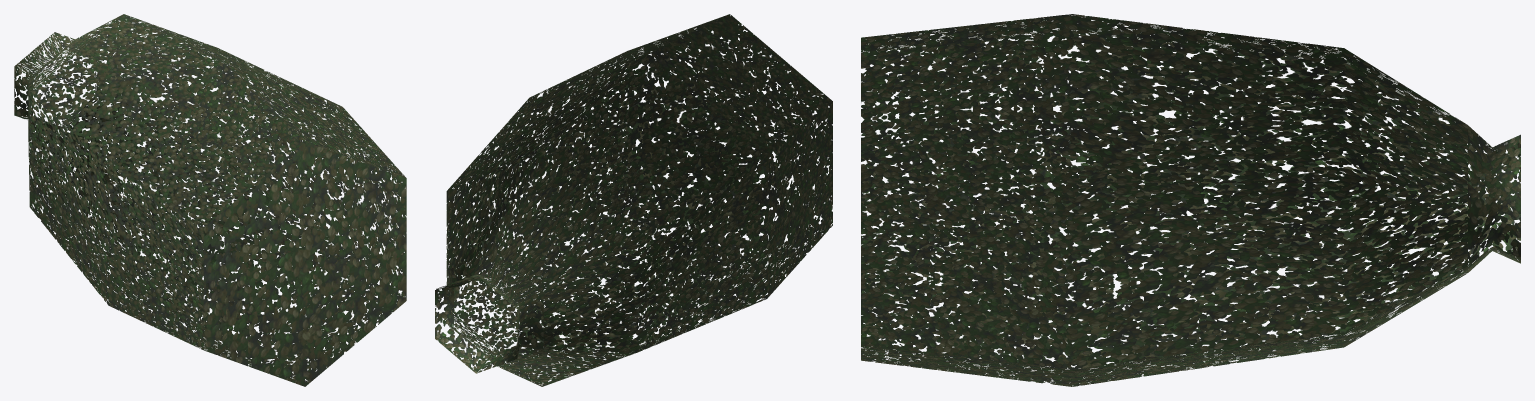
The model's file is nt_2020_foliage_hedge_rounded02_LOD2.obj.
3 renders of one model, left to right at view 1: azimuth 30°, elevation 25°; view 2: azimuth 150°, elevation 25°; view 3: azimuth 270°, elevation 25°, orthographic. The views are drawn at different scales.
Parts seen in each view (by area): view 1: mtl_p6_foliage_hedge2; view 2: mtl_p6_foliage_hedge2; view 3: mtl_p6_foliage_hedge2.
Part boxes in pixels (left/top/right/bottom): mtl_p6_foliage_hedge2: left=14, top=14, right=406, bottom=386; mtl_p6_foliage_hedge2: left=435, top=14, right=832, bottom=386; mtl_p6_foliage_hedge2: left=861, top=14, right=1520, bottom=386.
Bounding box in the file's own units: 101 × 117 × 187.
